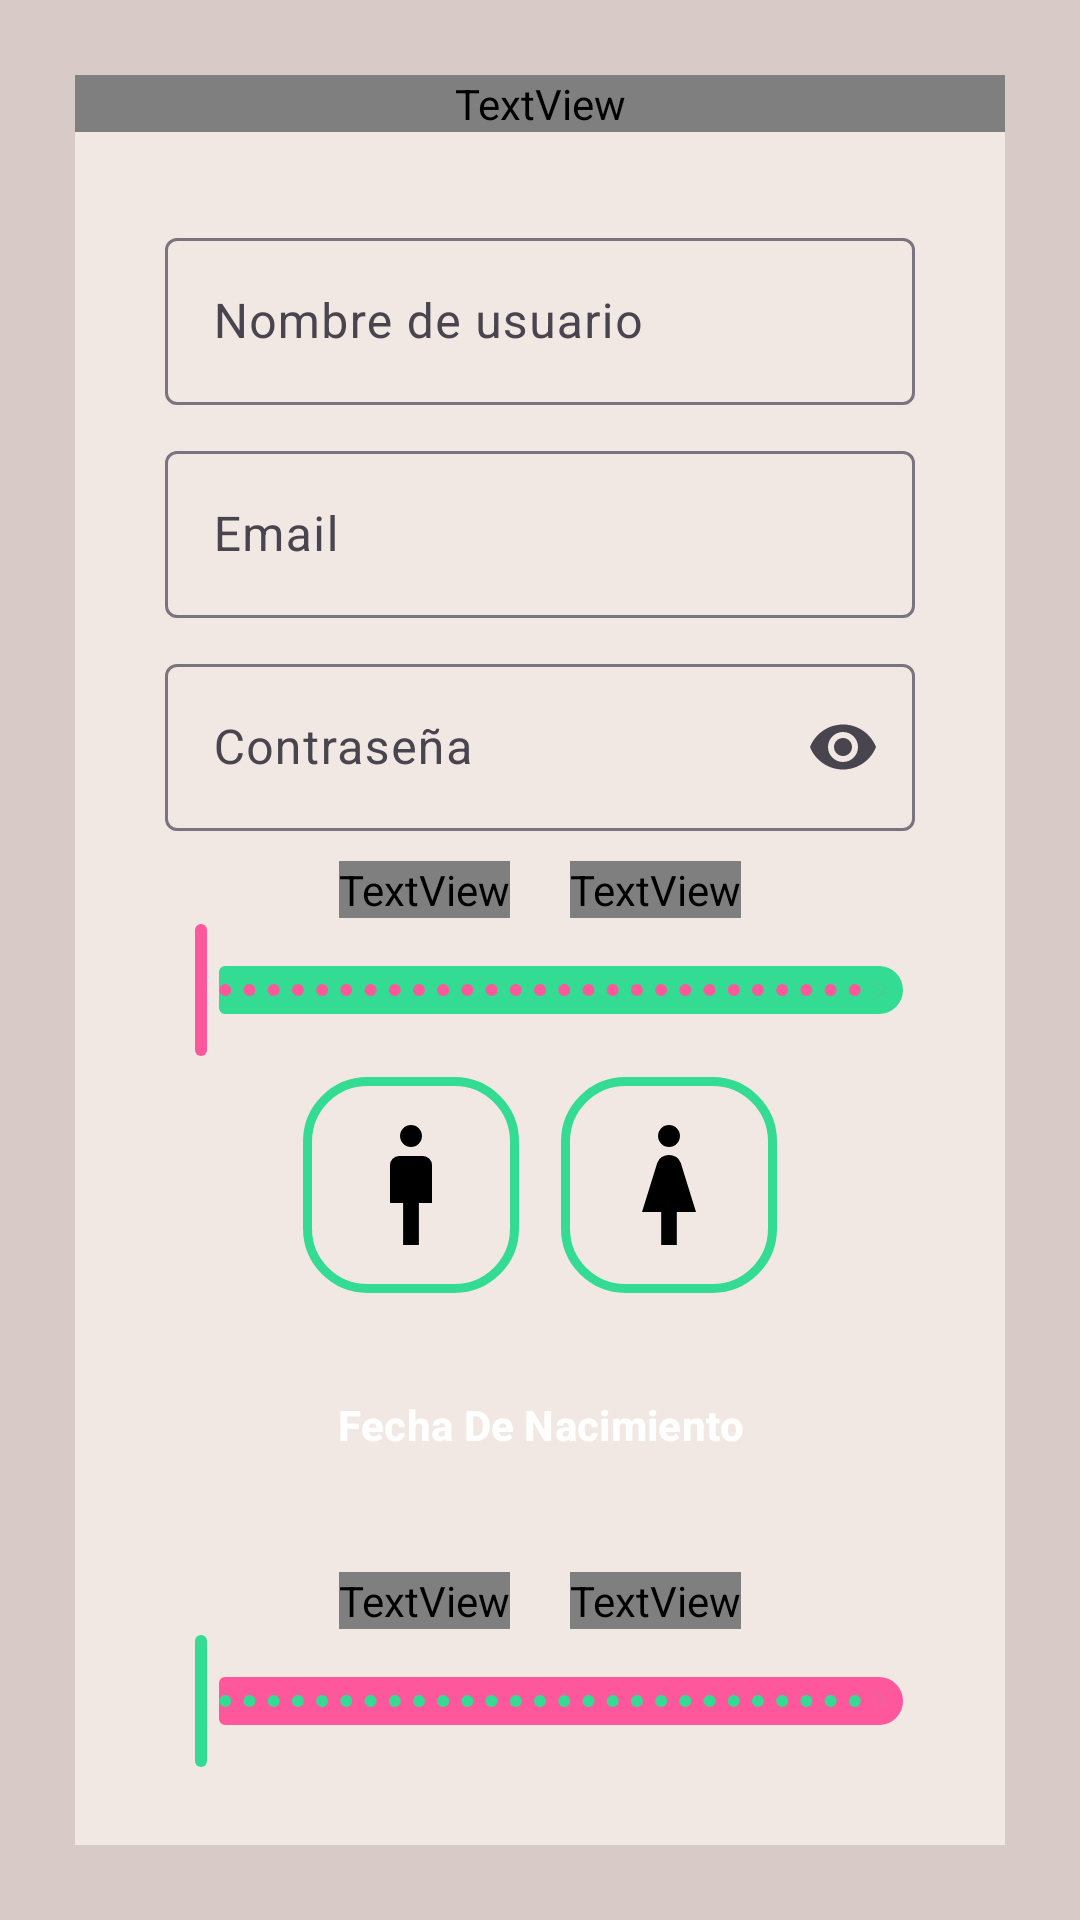

Screen size 1080px×1920px. Icon name, then its center in pixels as [x,y]:
hombre: [411,1185]
mujer: [669,1185]
